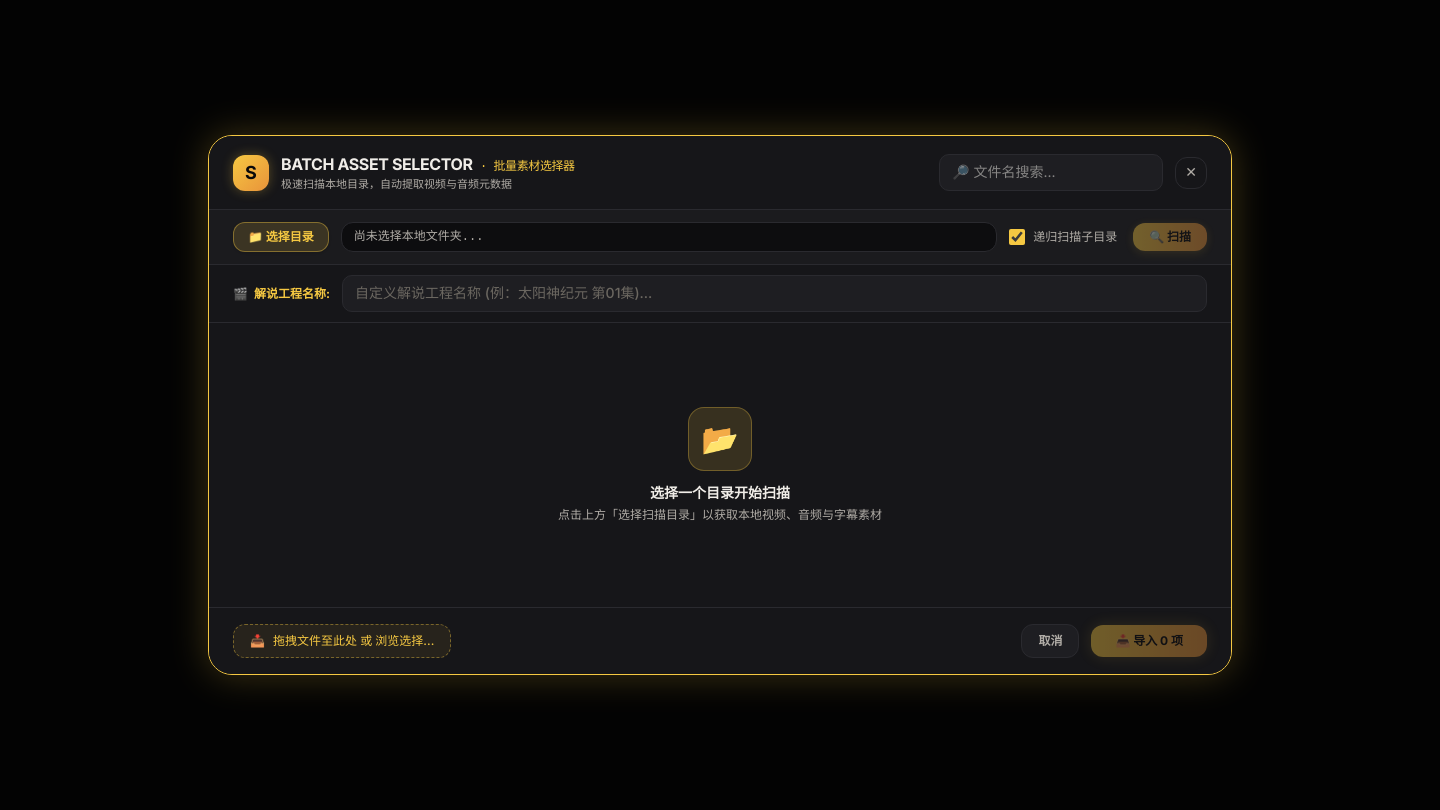
Scenario: BatchImportDialog › 选择目录 → 显示路径 + 启用 '扫描' 按钮
The width and height of the screenshot is (1440, 810).
Click the button "📁 选择目录".
click(281, 238)  # box [233,222,329,252]
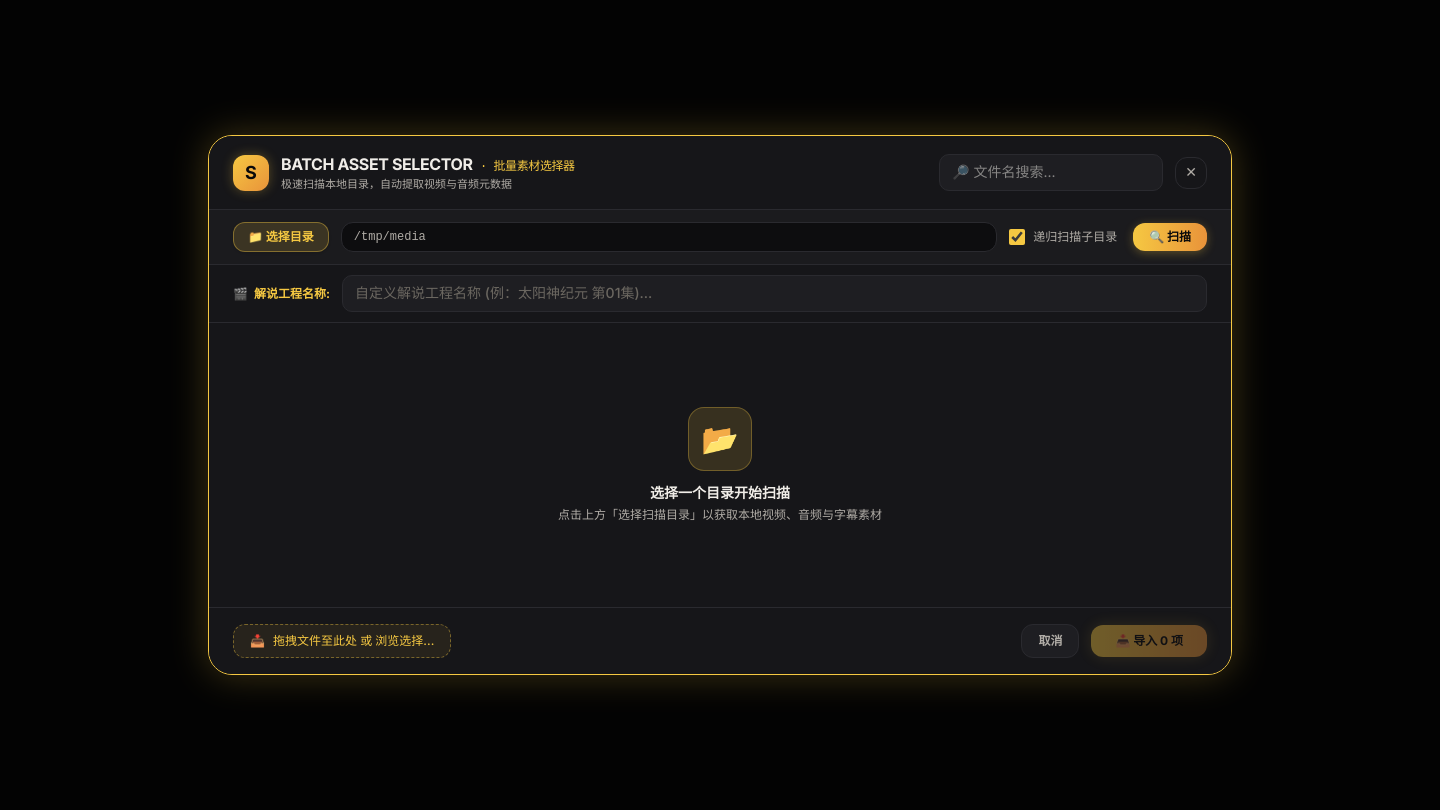
Expected: the text "/tmp/media" is shown, [341,222,997,252]
Expected: the button "🔍 扫描" is enabled, [1133,224,1207,252]
